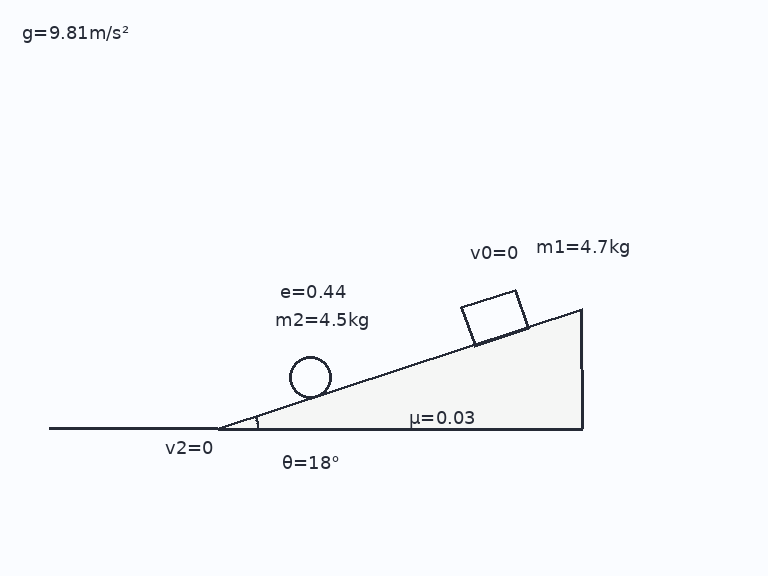ball: (287, 354, 333, 400)
block: (460, 288, 529, 348)
ramp: (216, 308, 585, 431)
